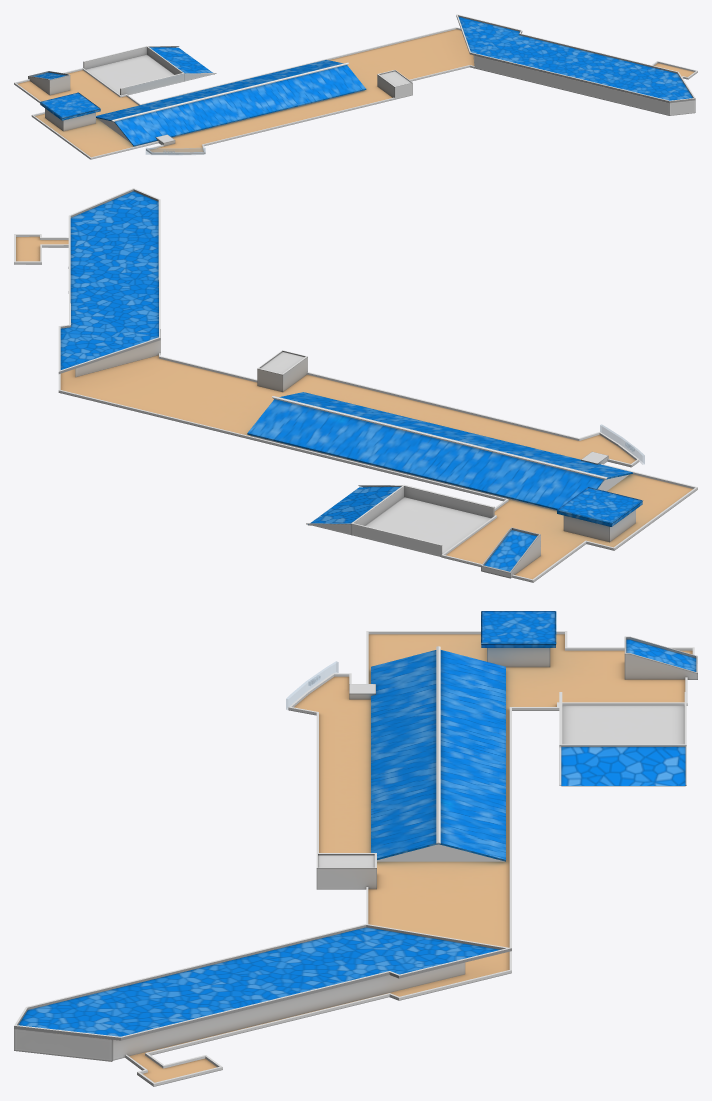
Rendered from COM1_ROOF.dae.
3 views of the same model, one above another, from view 1: azimuth 30°, elevation 25°; view 2: azimuth 150°, elevation 25°; view 3: azimuth 270°, elevation 25° (orthographic). The views are drawn at different scales.
Parts seen in each view (by area): view 1: All_polygons__baked_.1; view 2: All_polygons__baked_.1; view 3: All_polygons__baked_.1.
Boxes of the visible parts, x1,y1,x2,y2 form: All_polygons__baked_.1: (14, 14, 697, 159); All_polygons__baked_.1: (14, 188, 697, 582); All_polygons__baked_.1: (14, 611, 697, 1086).
Size of the model in its own units: 150 by 4.5 by 95.53.
8 materials, 4 textured.
